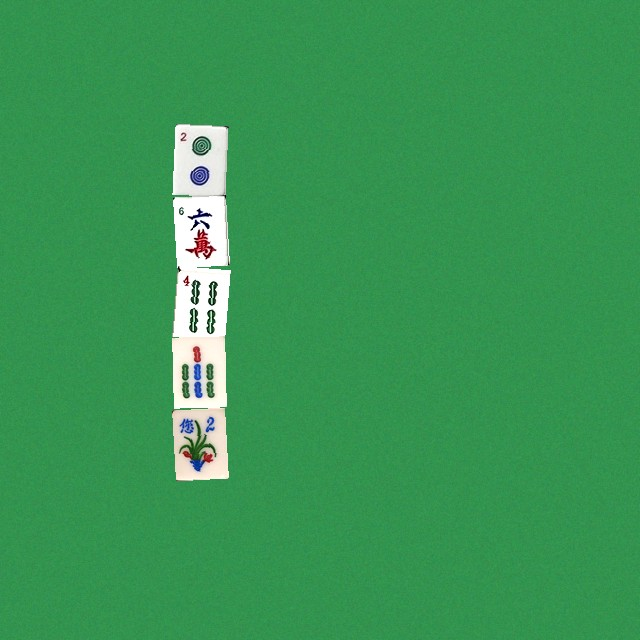tile: (172, 123, 225, 194), (172, 194, 225, 265), (172, 265, 225, 336), (172, 336, 225, 407), (172, 407, 225, 478)
